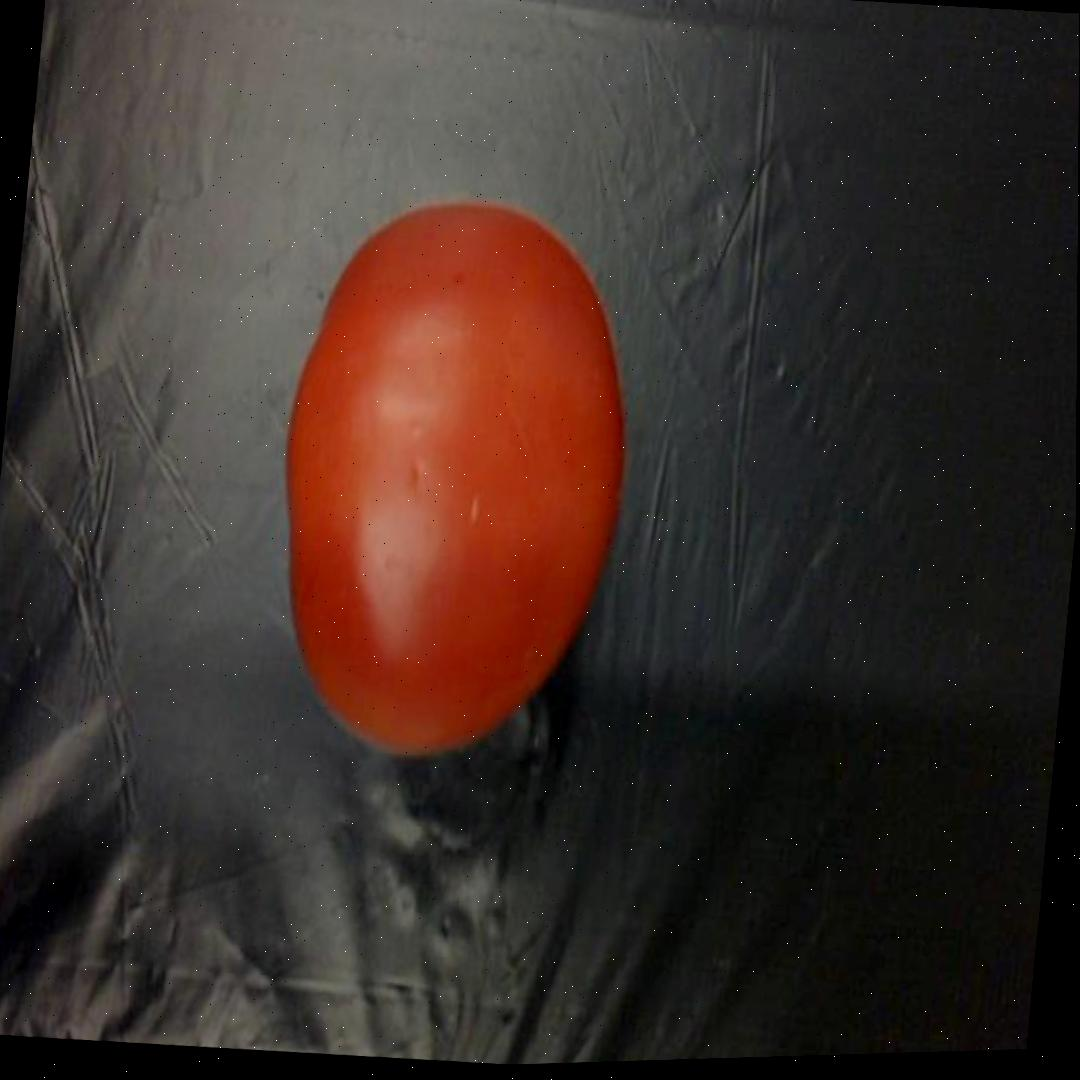matang: (256, 186, 645, 777)
